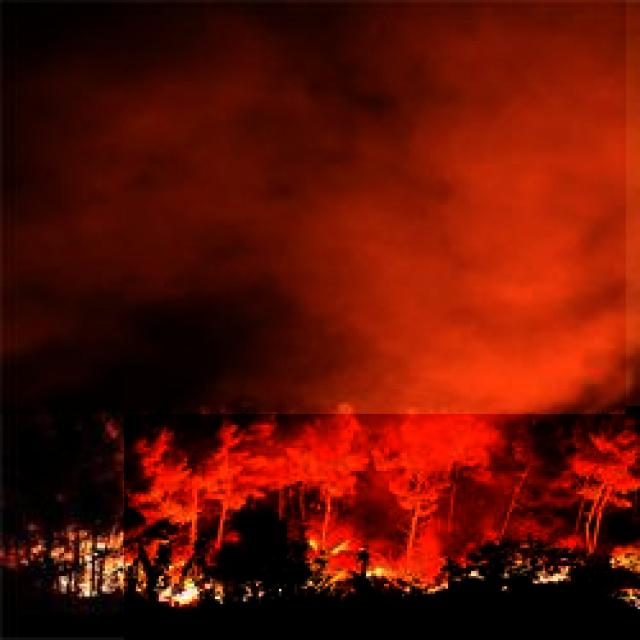Fire: (124, 406, 640, 640)
Smoke: (0, 0, 626, 414)
